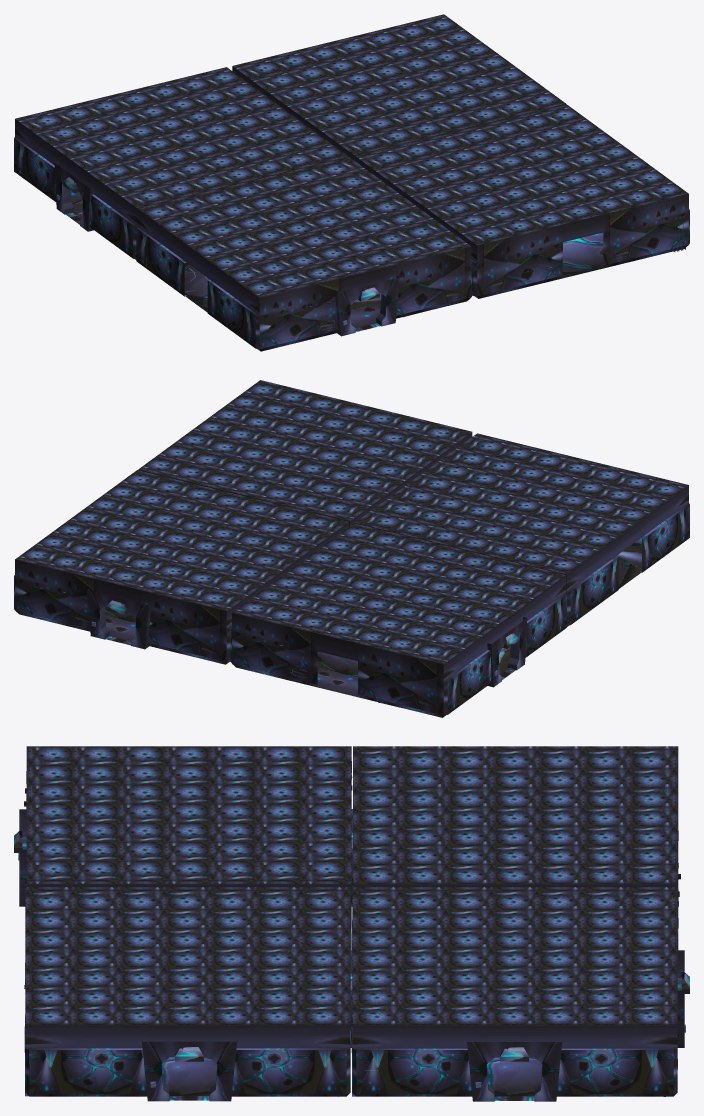
File: Combined_Mesh_root_scene__9_f65a131e__ZombiesII_laboratory_11_d_6be3923c_c1f257_part002.obj
3 renders of one model, top to bottom at view 1: azimuth 30°, elevation 25°; view 2: azimuth 150°, elevation 25°; view 3: azimuth 270°, elevation 25°, orthographic. The views are drawn at different scales.
Size of the model in its own units: 83.99 by 10.21 by 83.14.
233 materials, 233 textured.
